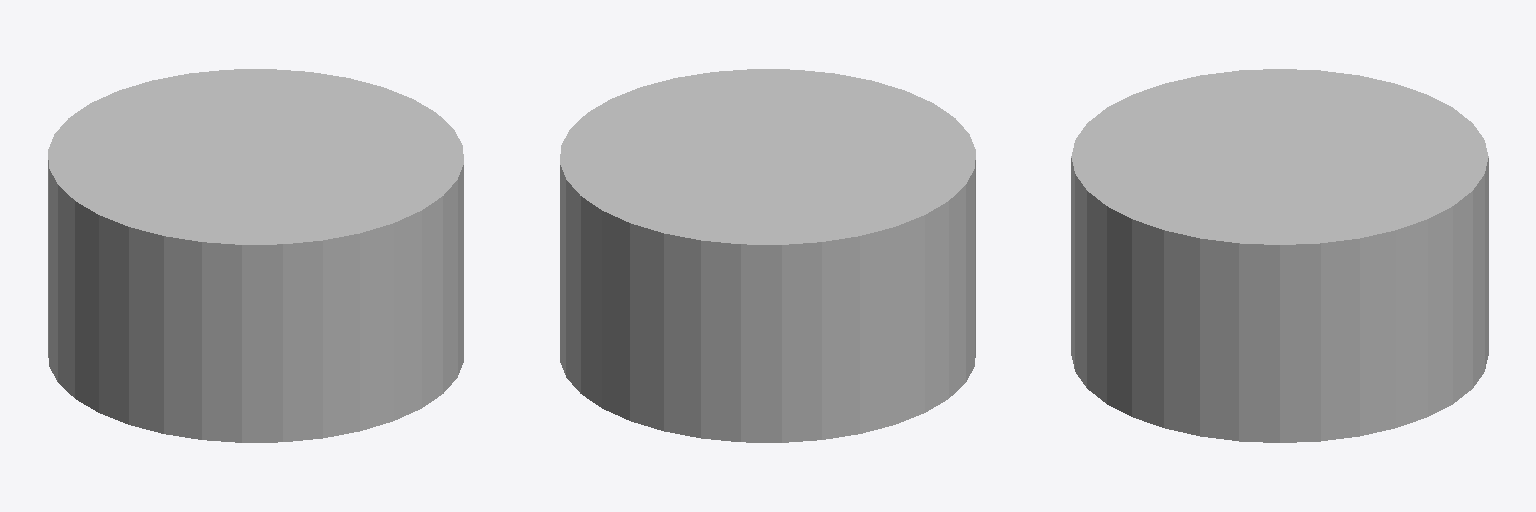
The picture shows the model from 3 angles: view 1: azimuth 30°, elevation 25°; view 2: azimuth 150°, elevation 25°; view 3: azimuth 270°, elevation 25°; orthographic projection.
Parts seen in each view (by area): view 1: CX2; view 2: CX2; view 3: CX2.
Part boxes in pixels (left/top/right/bottom): CX2: left=48, top=69, right=463, bottom=442; CX2: left=560, top=69, right=975, bottom=442; CX2: left=1071, top=69, right=1488, bottom=442.
Bounding box in the file's own units: 7.64 × 4 × 7.64.